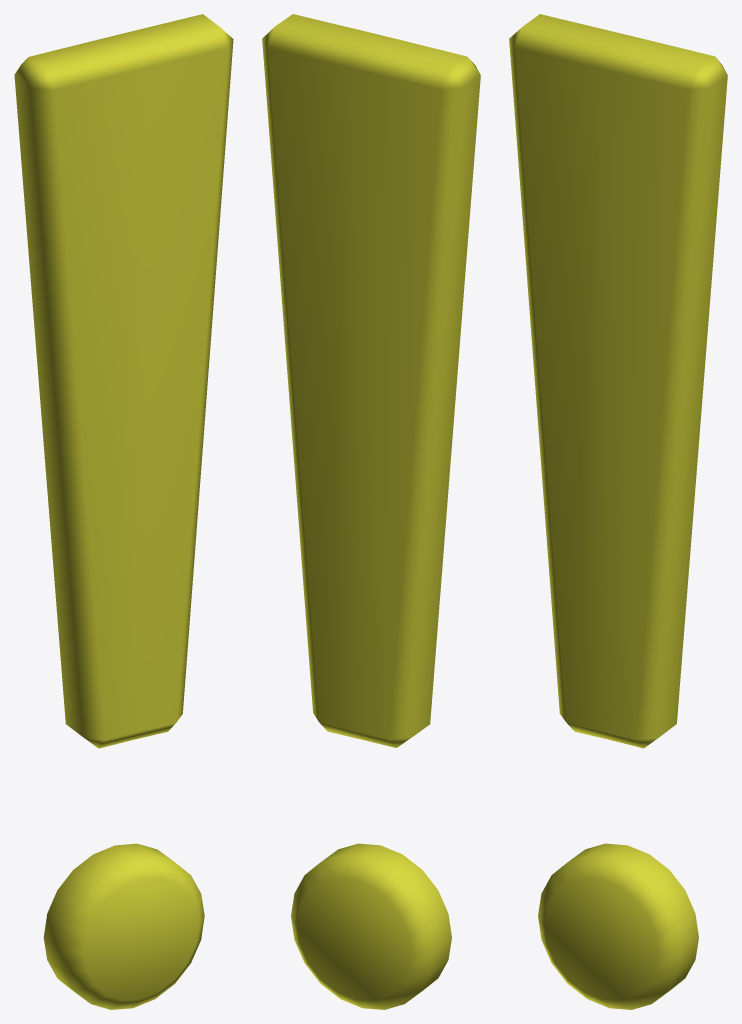
Rendered from ExclamationMark.fbx.
The picture shows the model from 3 angles, left to right: view 1: azimuth 30°, elevation 25°; view 2: azimuth 150°, elevation 25°; view 3: azimuth 330°, elevation 25°; orthographic projection.
Parts seen in each view (by area): view 1: pCube2; view 2: pCube2; view 3: pCube2.
Part boxes in pixels (bbox=[...]): pCube2: bbox=[14, 14, 233, 1009]; pCube2: bbox=[262, 14, 480, 1009]; pCube2: bbox=[509, 14, 727, 1009].
Size of the model in its own units: 6.94 by 31.58 by 2.05.
